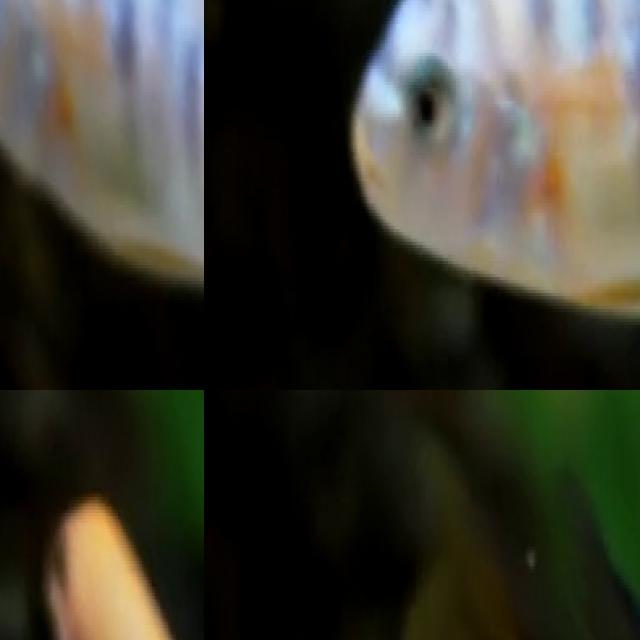fish: (319, 0, 640, 331), (0, 0, 204, 390), (367, 419, 640, 640)
